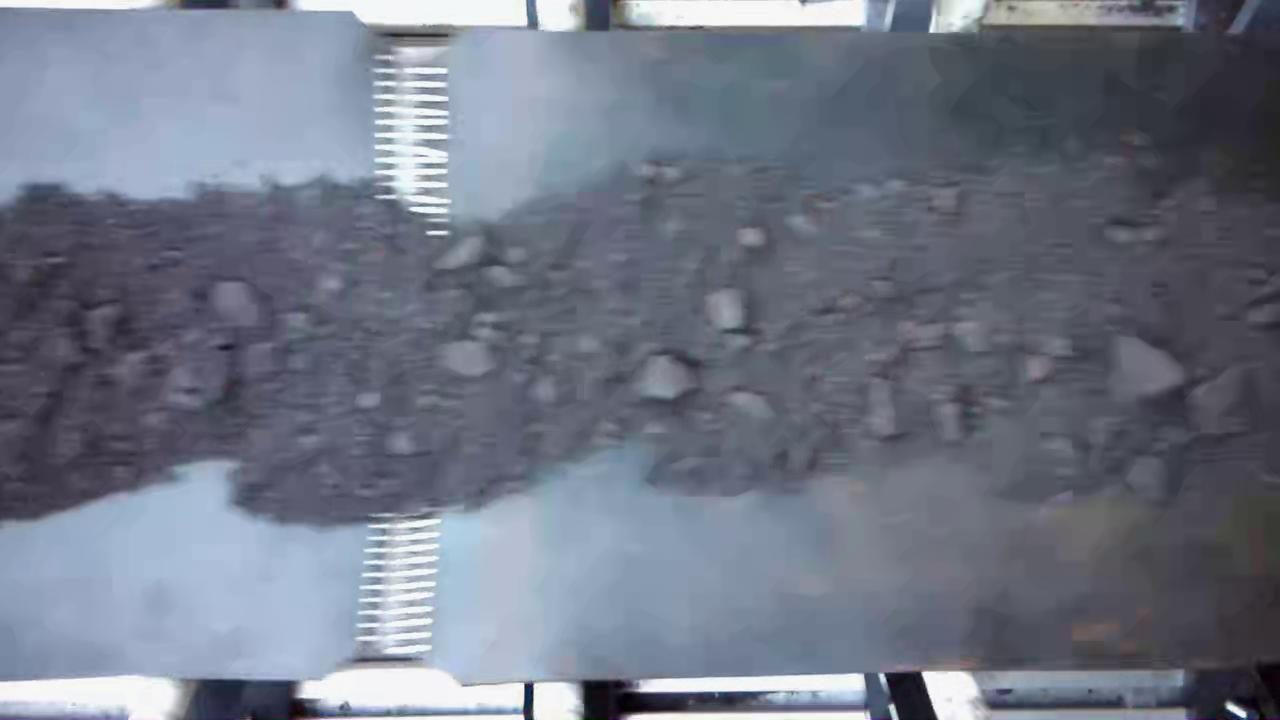conveyor: (3, 36, 1280, 657)
